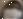with_mask: (2, 1, 23, 19)
